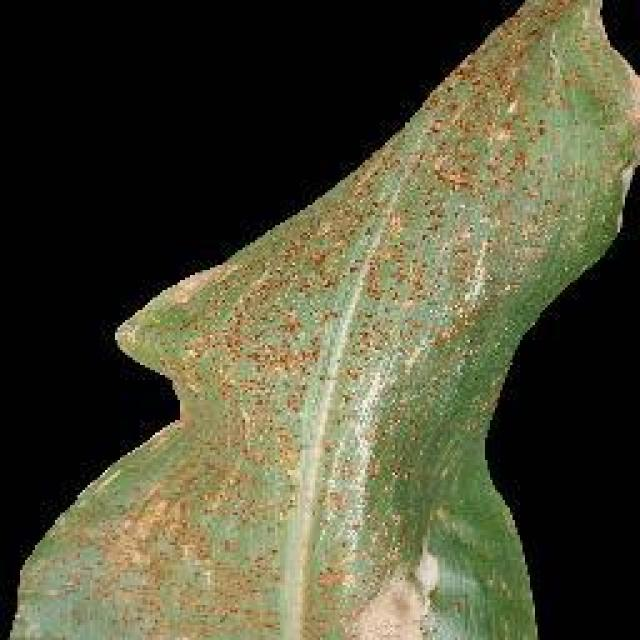Corn Common Rust: (202, 59, 580, 624)
